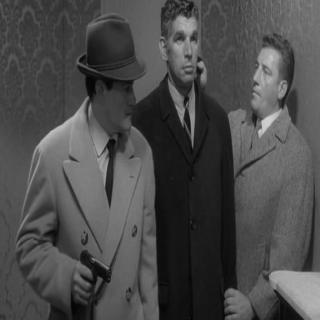gun: (72, 242, 111, 311)
